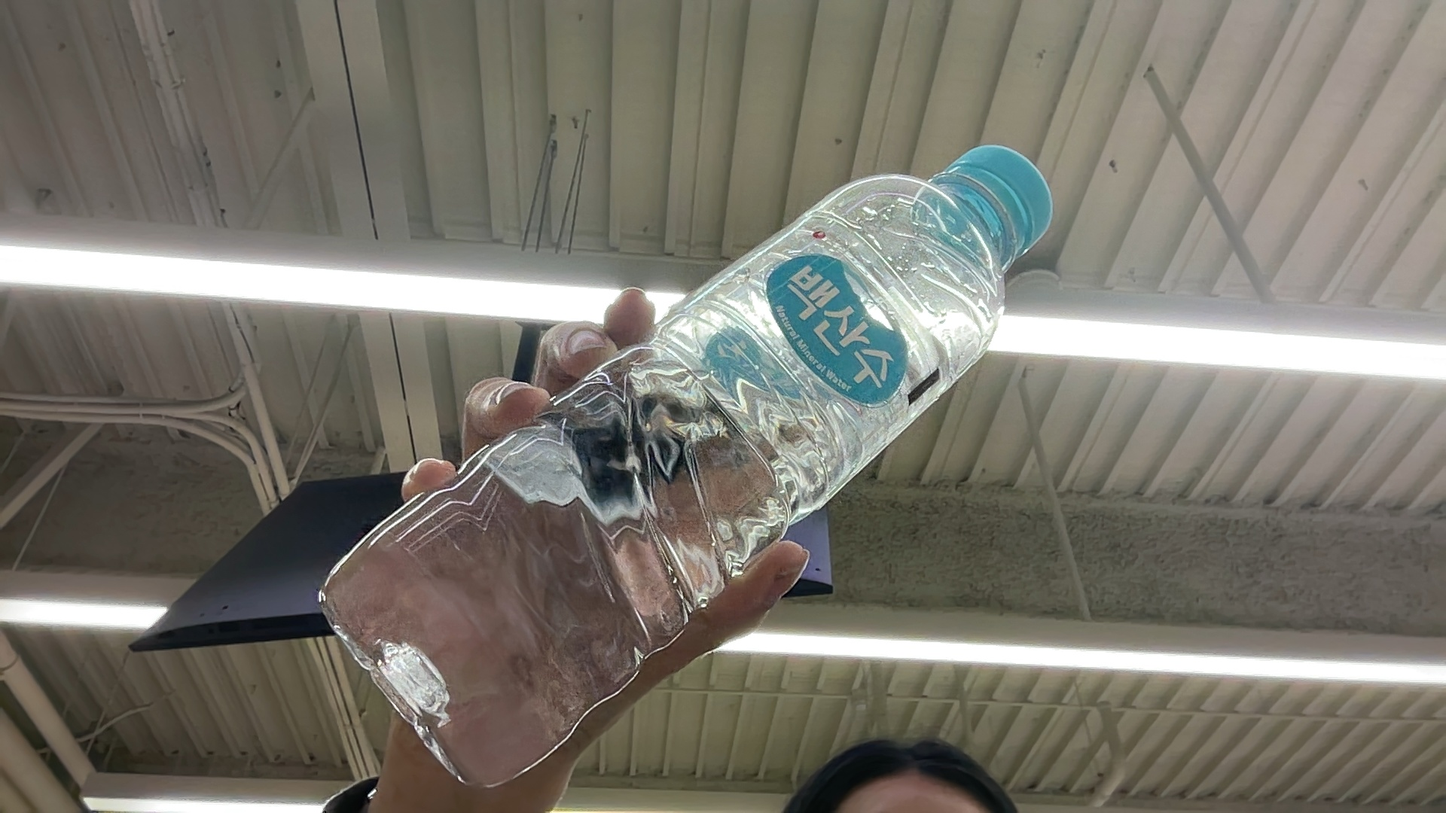Plastic: (299, 119, 1133, 734)
